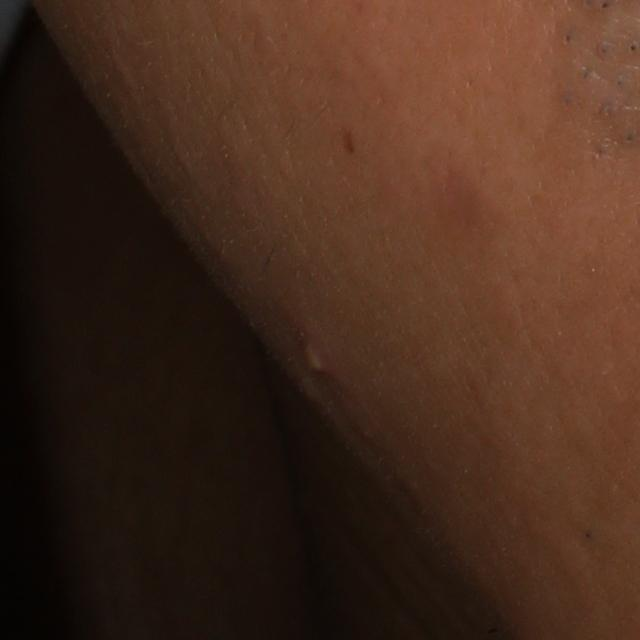nevus: (338, 125, 358, 157)
pustule: (291, 317, 348, 386)
